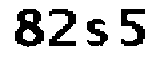2: (47, 5, 77, 49)
5: (116, 5, 152, 50)
8: (11, 6, 46, 48)
s: (84, 16, 110, 48)
